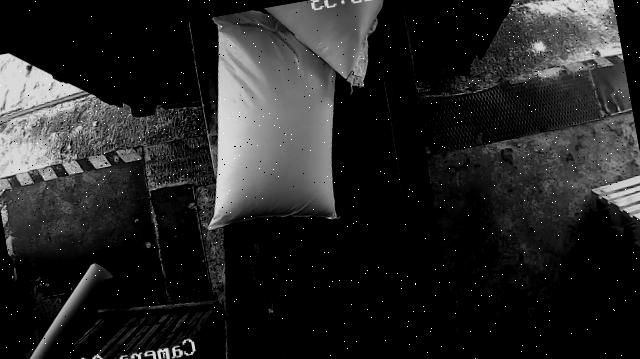bag: (171, 0, 360, 239), (236, 0, 399, 106)
